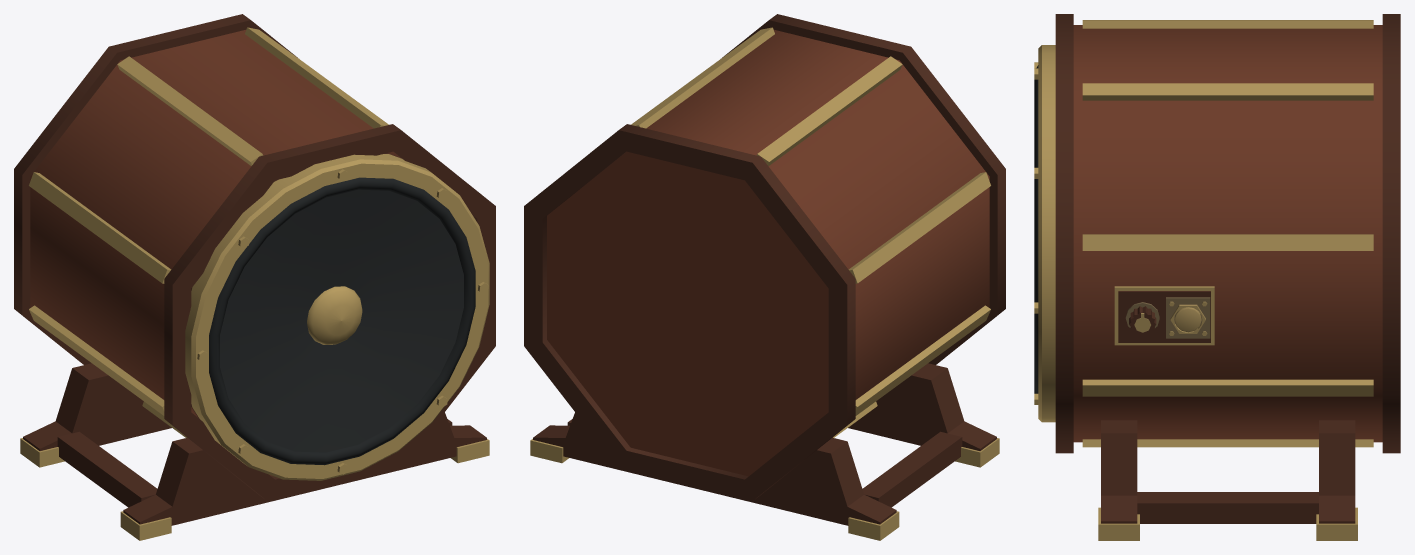
The model's file is AA-woofer.glb.
3 renders of one model, left to right at view 1: azimuth 30°, elevation 25°; view 2: azimuth 150°, elevation 25°; view 3: azimuth 270°, elevation 25°, orthographic. The views are drawn at different scales.
Visible parts, largest first — view 1: Octagonal drum, Woofer — cone, Octagon rim front, Woofer — bezel ring, Brass edge straps, Woofer — rubber surround, Cradle front, Octagon rim back, Cradle back, Cradle rail left, Woofer — dust cap, Brass foot cap front left (+3 smaller); view 2: Octagonal drum, Octagon rim back, Brass edge straps, Cradle back, Octagon rim front, Cradle front, Cradle rail left, Brass foot cap back left, Brass foot cap front left, Brass foot cap back right; view 3: Octagonal drum, Brass edge straps, Octagon rim front, Octagon rim back, Woofer — bezel ring, Cradle rail right, Cradle front, Cradle back, Control plate, Woofer — rubber surround, Control plate brass trim, Power — panel plate (+4 smaller).
Boxes of the visible parts, box(x1,y1,x2,y2) form: Octagonal drum: box(30, 30, 400, 476); Woofer — cone: box(220, 189, 463, 452); Octagon rim front: box(164, 124, 495, 500); Woofer — bezel ring: box(185, 154, 489, 480); Brass edge straps: box(29, 27, 388, 437); Woofer — rubber surround: box(209, 177, 475, 465); Cradle front: box(123, 412, 486, 525); Octagon rim back: box(14, 14, 297, 364); Cradle back: box(23, 363, 171, 450); Cradle rail left: box(57, 431, 157, 507); Woofer — dust cap: box(307, 286, 362, 344); Brass foot cap front left: box(120, 511, 171, 540); Octagonal drum: box(547, 30, 989, 476); Octagon rim back: box(524, 124, 855, 500); Brass edge straps: box(631, 27, 990, 437); Cradle back: box(533, 412, 896, 525); Octagon rim front: box(722, 14, 1005, 364); Cradle front: box(848, 363, 996, 450); Cradle rail left: box(862, 431, 962, 507); Brass foot cap back left: box(848, 511, 899, 540); Brass foot cap front left: box(955, 438, 999, 467); Brass foot cap back right: box(530, 439, 568, 463); Octagonal drum: box(1073, 25, 1382, 442); Brass edge straps: box(1082, 20, 1373, 447); Octagon rim front: box(1055, 14, 1073, 453); Octagon rim back: box(1382, 14, 1400, 453); Woofer — bezel ring: box(1038, 45, 1055, 422); Cradle rail right: box(1137, 492, 1318, 523); Cradle front: box(1101, 420, 1137, 523); Cradle back: box(1319, 420, 1355, 523); Control plate: box(1118, 291, 1210, 342); Woofer — rubber surround: box(1034, 65, 1038, 393); Control plate brass trim: box(1114, 286, 1214, 345); Power — panel plate: box(1166, 297, 1210, 338).
Bounding box in the file's own units: 0.484 × 0.4841 × 0.4035.
